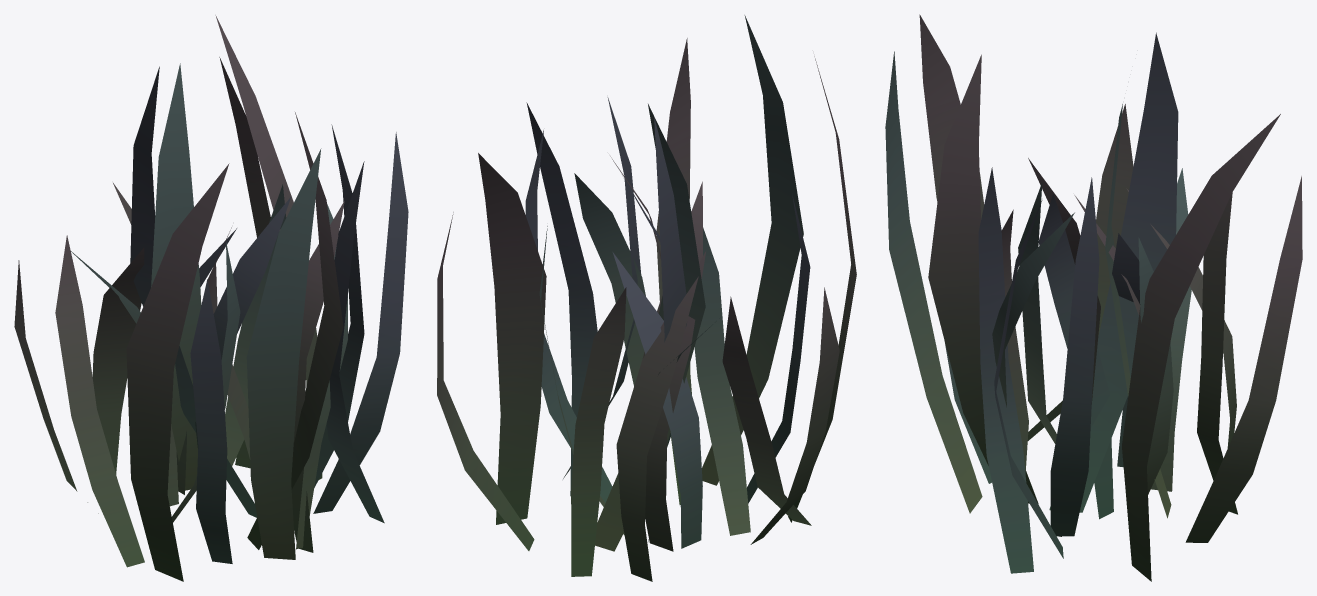
The model's file is Grass5.fbx.
3 views of the same model, side by side, from view 1: azimuth 30°, elevation 25°; view 2: azimuth 150°, elevation 25°; view 3: azimuth 270°, elevation 25° (orthographic). The views are drawn at different scales.
Visible parts, largest first — view 1: Grass1; view 2: Grass1; view 3: Grass1.
Part boxes in pixels (x1=…): Grass1: x1=14, y1=15, x2=408, y2=581; Grass1: x1=437, y1=15, x2=856, y2=581; Grass1: x1=885, y1=14, x2=1302, y2=581.
Size of the model in its own units: 183 by 236 by 187.
